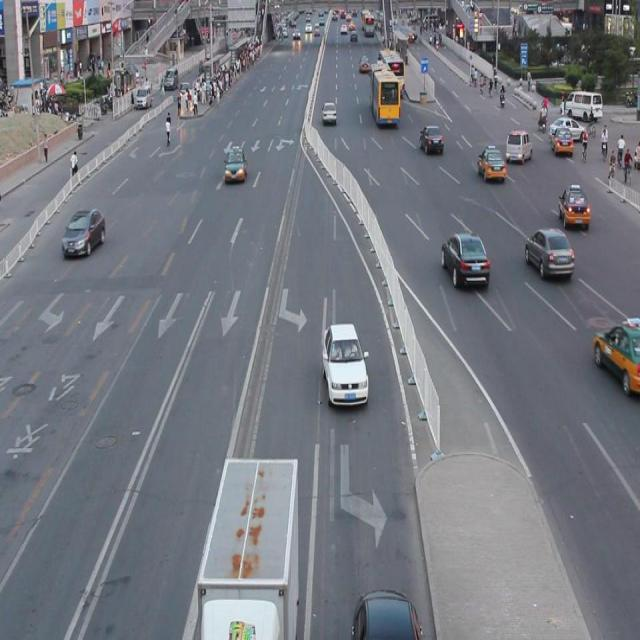bus: (197, 451, 300, 640)
car: (321, 321, 368, 406), (352, 584, 421, 640), (591, 320, 640, 392), (441, 231, 488, 286), (524, 226, 572, 278), (62, 208, 106, 258), (556, 184, 589, 230)
